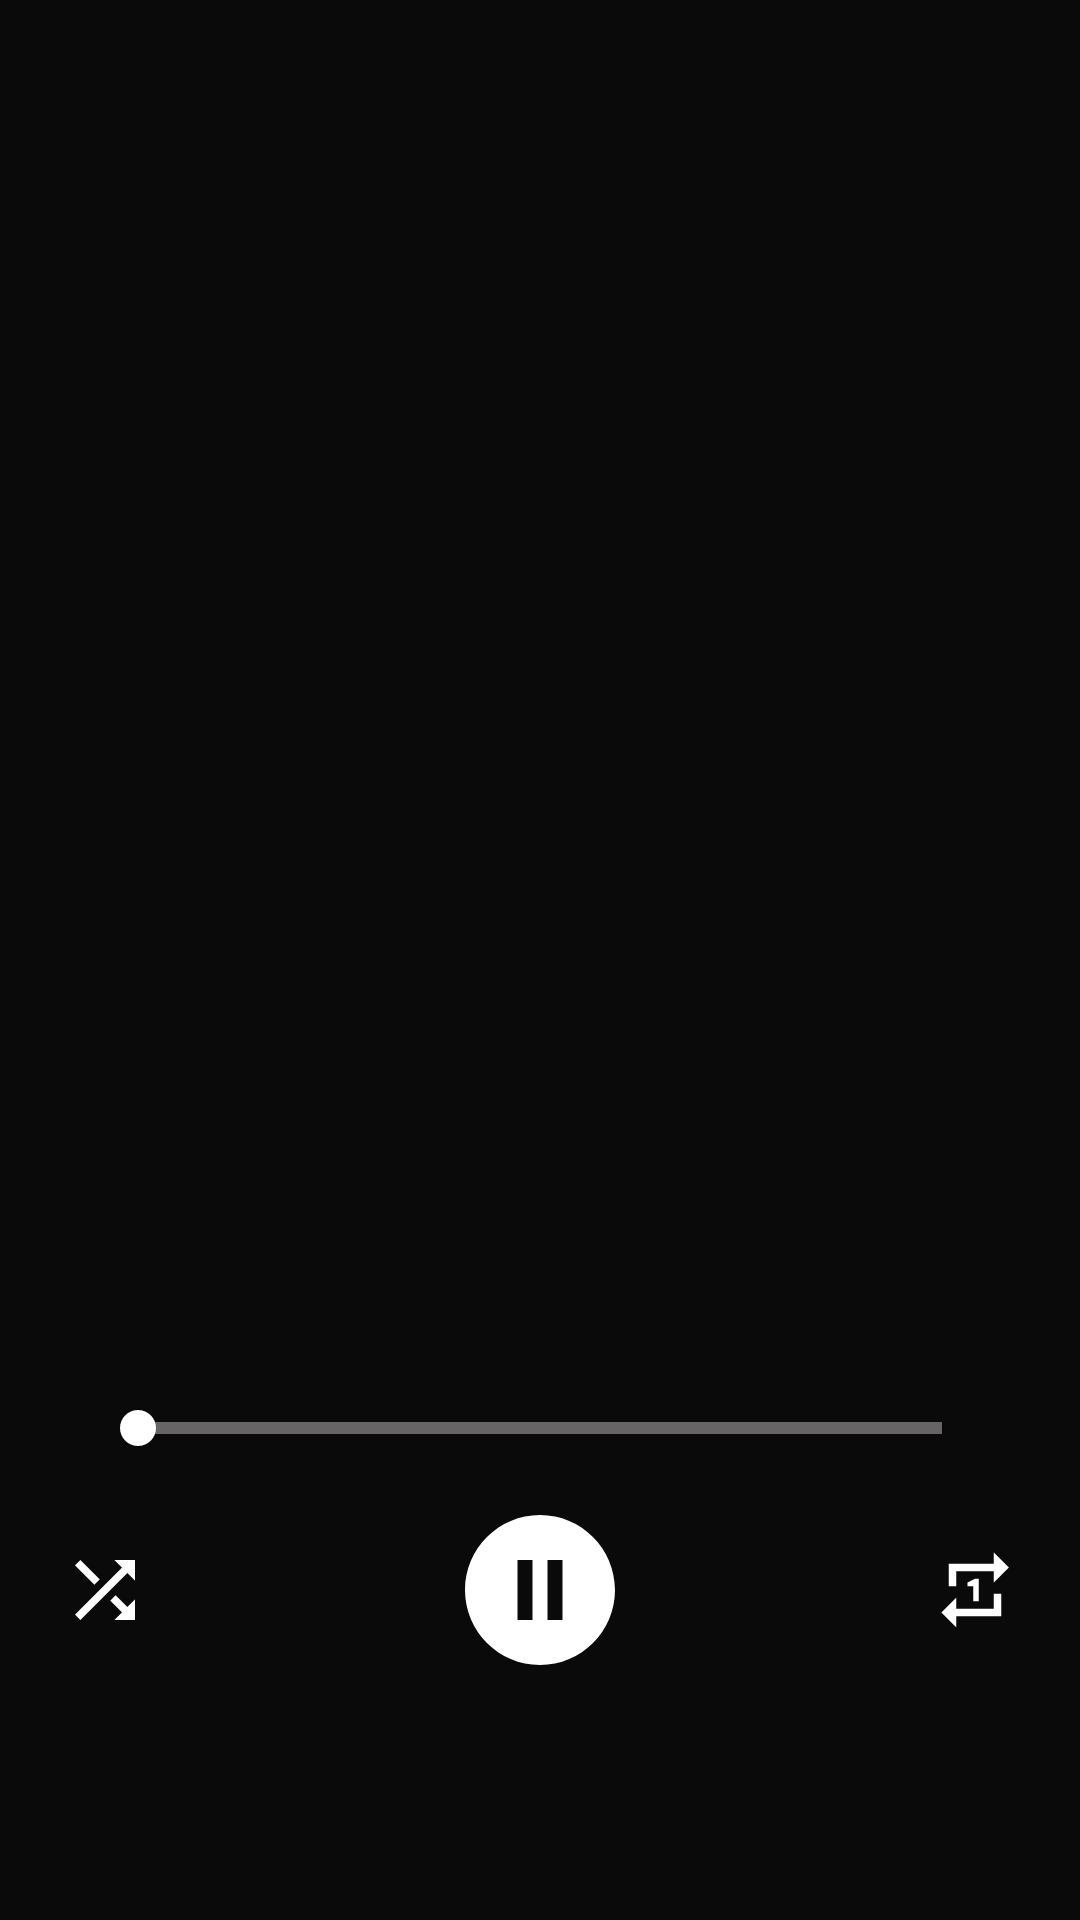

Locate icon controls on the screen. Image size 1080px×1920px, boxes as region(x1, y1, x2, y2).
pause circle: region(465, 1515, 615, 1665)
repeat one: region(941, 1552, 1009, 1627)
shuffle: region(75, 1560, 135, 1620)
